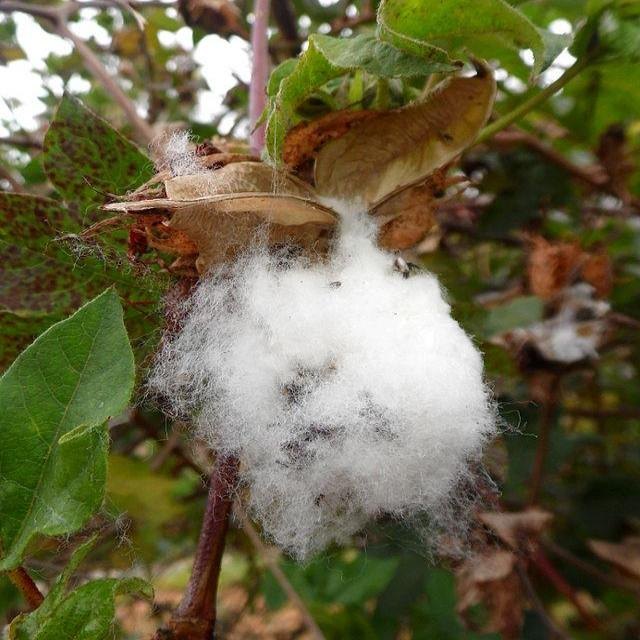Early_blight: (69, 55, 518, 569)
